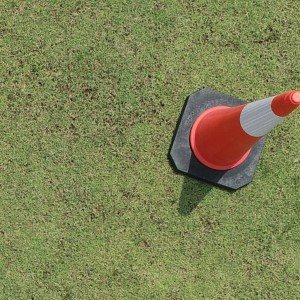traffic cone: (170, 89, 300, 190)
